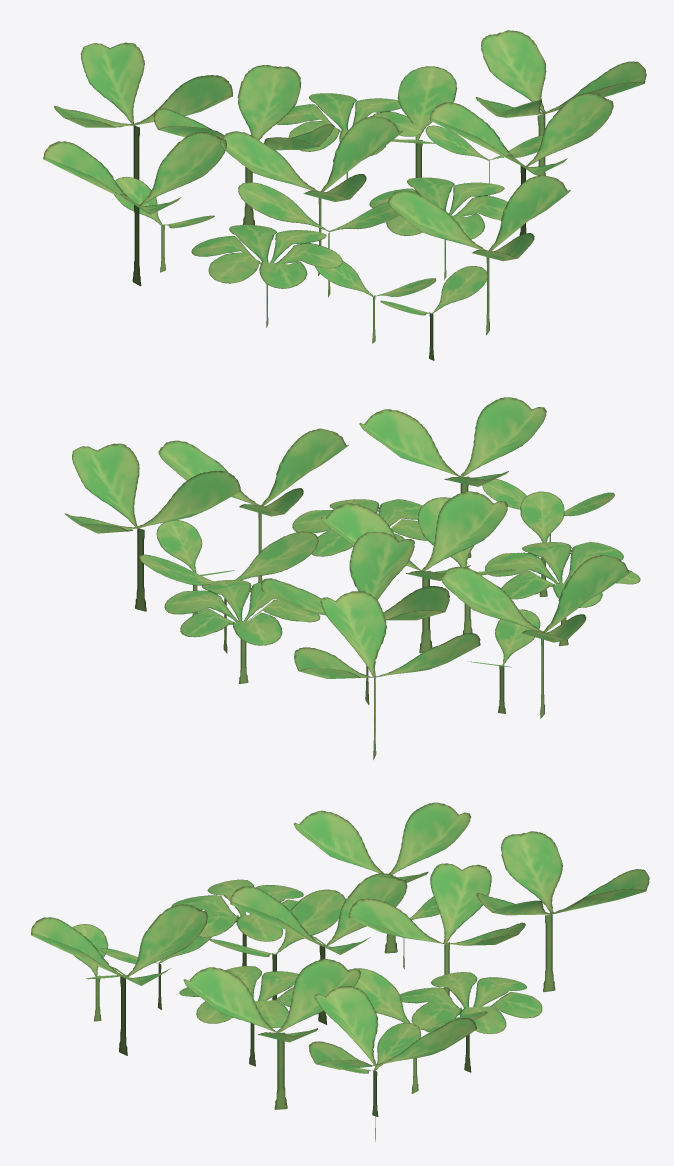
Rendered from LeafSetG_19.fbx.
The picture shows the model from 3 angles, top to bottom: view 1: azimuth 30°, elevation 25°; view 2: azimuth 150°, elevation 25°; view 3: azimuth 270°, elevation 25°; orthographic projection. The views are drawn at different scales.
Parts seen in each view (by area): view 1: LeafSetG_19; view 2: LeafSetG_19; view 3: LeafSetG_19.
Part boxes in pixels (x1,y1,x2,y2): LeafSetG_19: (43, 30, 646, 360); LeafSetG_19: (65, 397, 640, 759); LeafSetG_19: (31, 802, 649, 1141).
Size of the model in its own units: 0.7825 by 0.178 by 0.8113.
